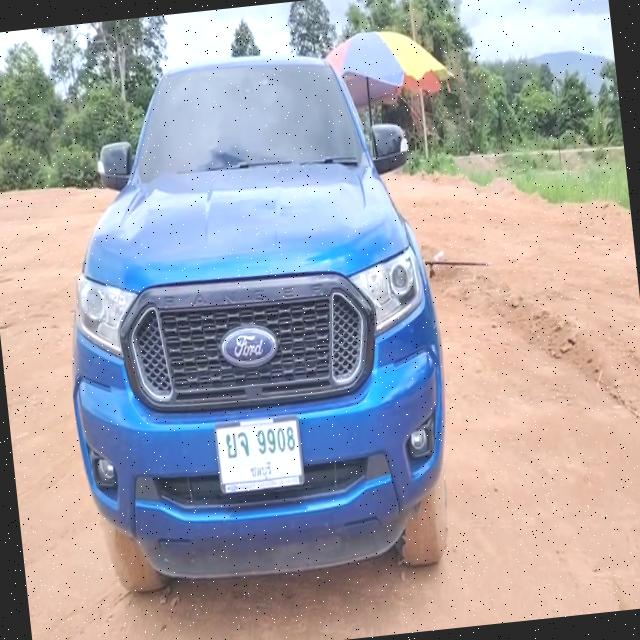Digit: (252, 422, 298, 457)
Licenseplate: (214, 416, 304, 494)
Provincename: (248, 459, 274, 481)
Thaichar: (224, 428, 249, 459)
